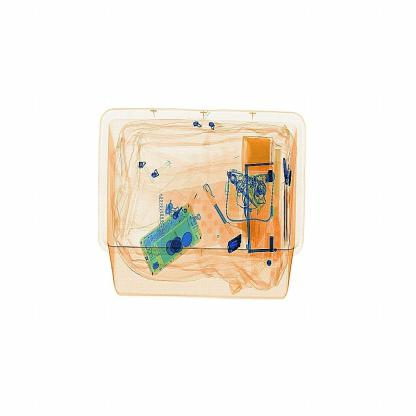knife: (221, 232, 248, 261)
